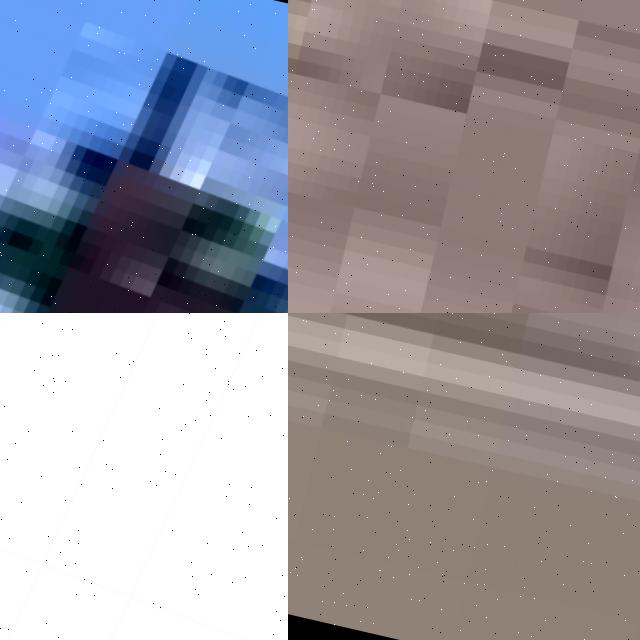0: (0, 0, 288, 313)
drone: (0, 313, 288, 640)
